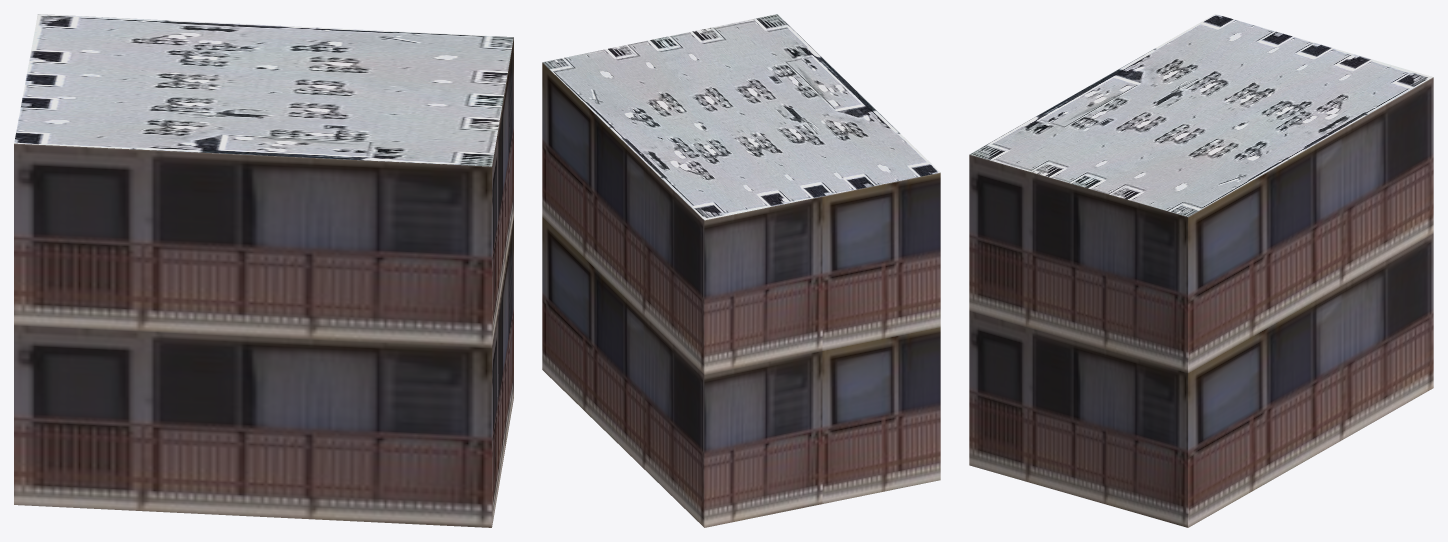
File: ResTex__2397.fbx
The picture shows the model from 3 angles, left to right: view 1: azimuth 30°, elevation 25°; view 2: azimuth 150°, elevation 25°; view 3: azimuth 270°, elevation 25°; orthographic projection. The views are drawn at different scales.
Visible parts, largest first — view 1: CityEngineMaterial_6_m, CityEngineMaterial_m; view 2: CityEngineMaterial_6_m, CityEngineMaterial_m; view 3: CityEngineMaterial_6_m, CityEngineMaterial_m.
Part boxes in pixels (x1,y1,x2,y2): CityEngineMaterial_6_m: (14, 37, 513, 527); CityEngineMaterial_m: (14, 14, 513, 166); CityEngineMaterial_6_m: (542, 62, 940, 527); CityEngineMaterial_m: (543, 14, 940, 220); CityEngineMaterial_6_m: (969, 77, 1433, 527); CityEngineMaterial_m: (969, 14, 1433, 216).
Bounding box in the file's own units: 8.41 × 6 × 8.12.
2 materials, 2 textured.
